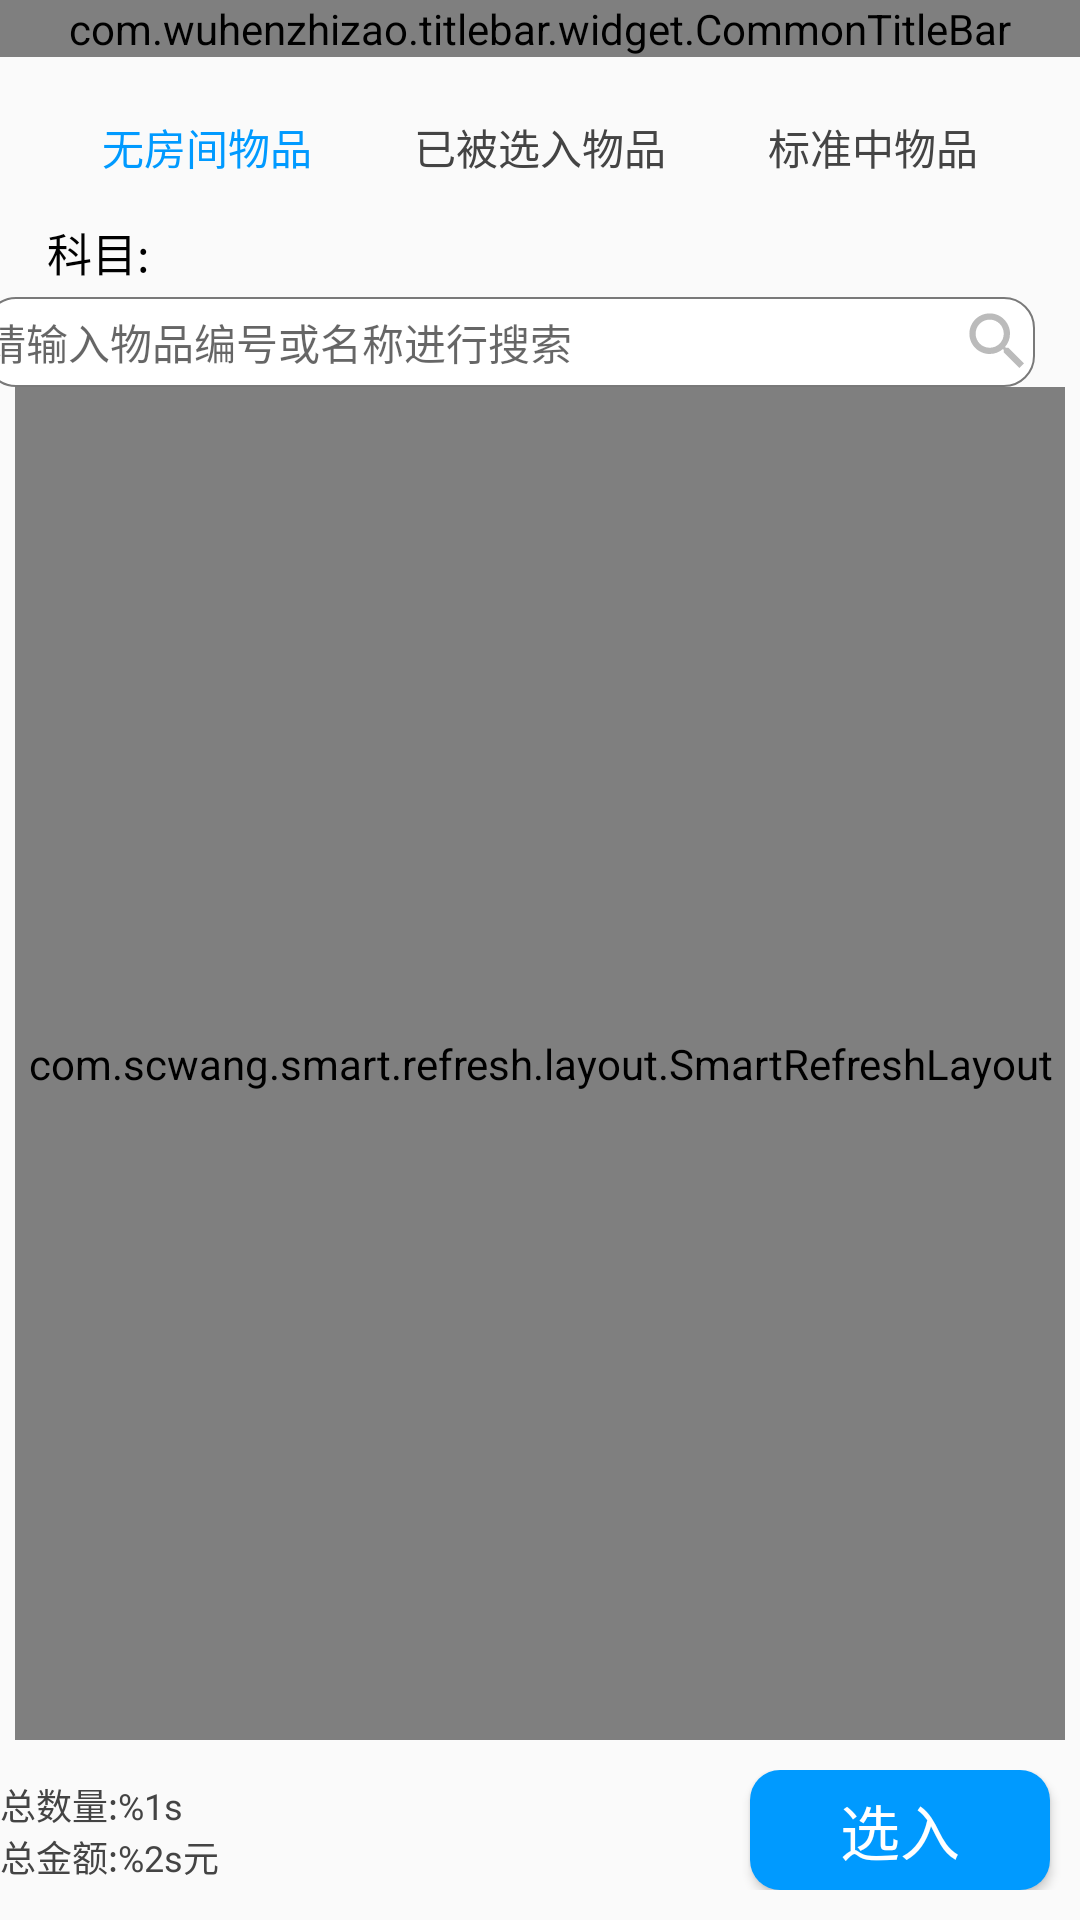

Icons on this 1080 × 1920 Android screen, each with its box as [x1=x1, y1=y1, x2=x2, y2=y2]:
search: [x1=969, y1=313, x2=1024, y2=368]
